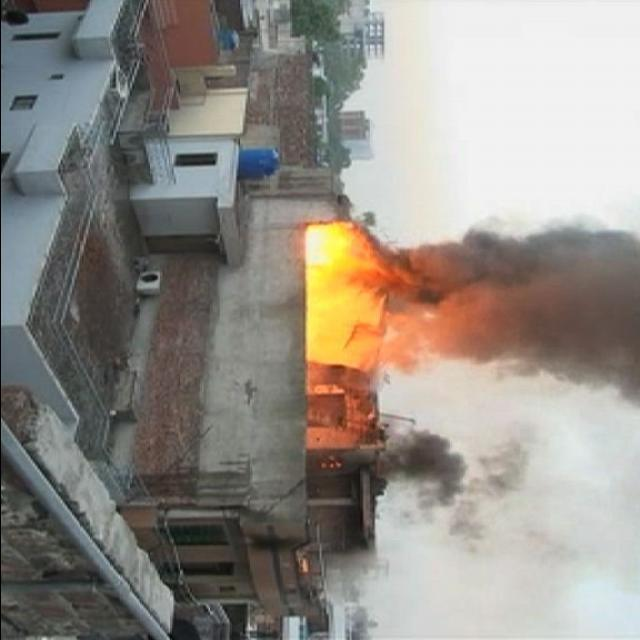Fire: (286, 215, 375, 367)
